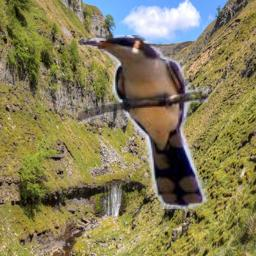Cuckoo: (78, 35, 208, 209)
